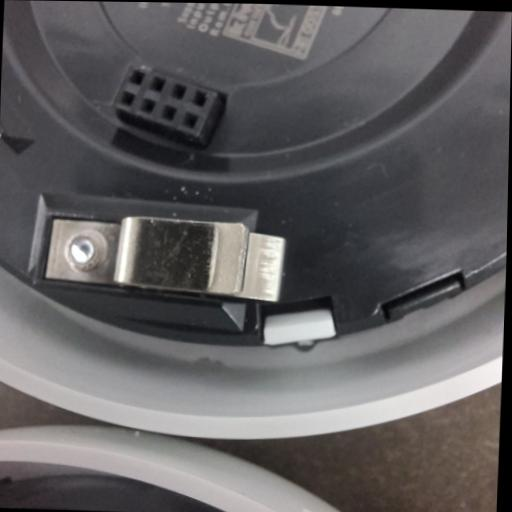yayli: (43, 212, 286, 303)
